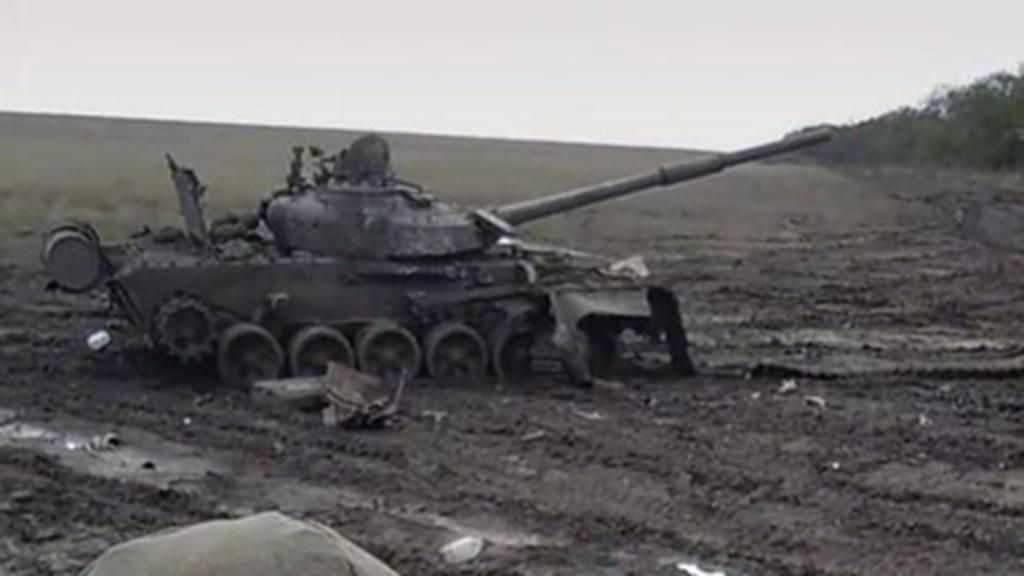TANK: (50, 116, 836, 386)
